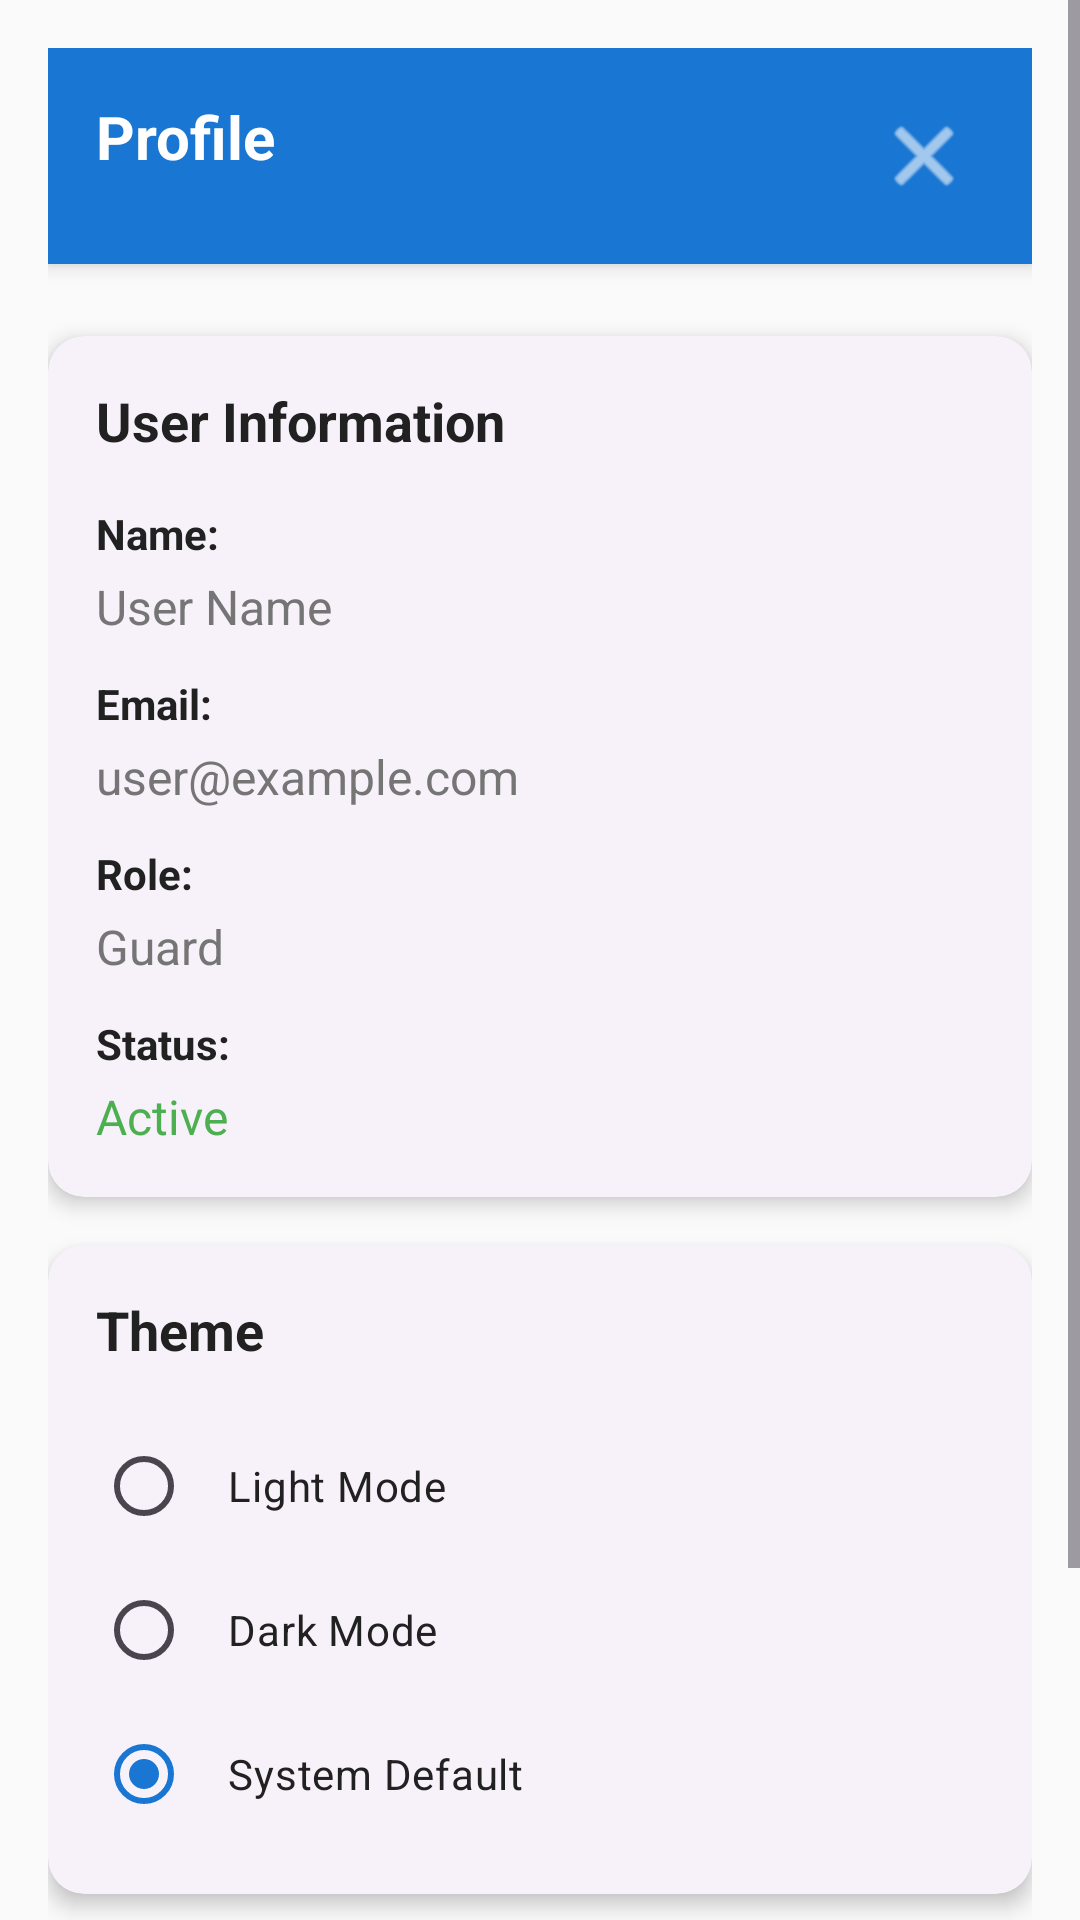

Icons on this 1080px×1920px Android screen, each with the point to tap as [x,y]:
Close: [924,156]
